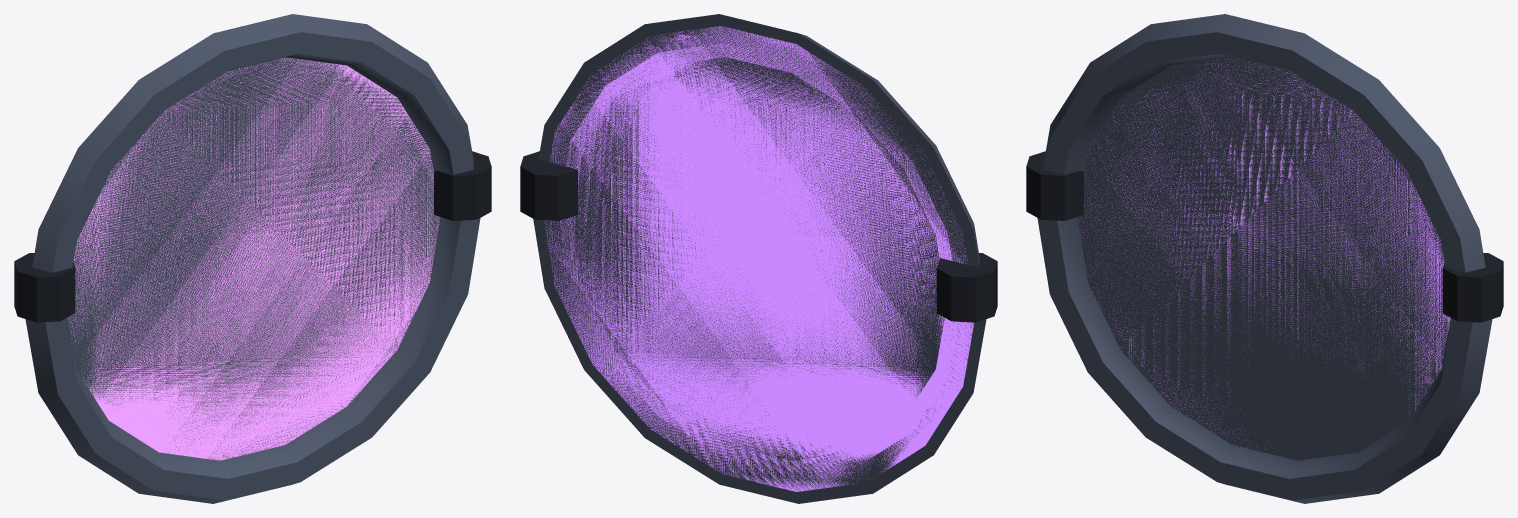
The model's file is ring_arch.glb.
3 renders of one model, left to right at view 1: azimuth 30°, elevation 25°; view 2: azimuth 150°, elevation 25°; view 3: azimuth 330°, elevation 25°, orthographic.
Parts seen in each view (by area): view 1: ring_arch; view 2: ring_arch; view 3: ring_arch.
Part boxes in pixels (x1,y1,x2,y2): ring_arch: [14, 14, 491, 503]; ring_arch: [520, 14, 997, 503]; ring_arch: [1026, 14, 1503, 503].
Bounding box in the file's own units: 3.28 × 3.13 × 0.38.
